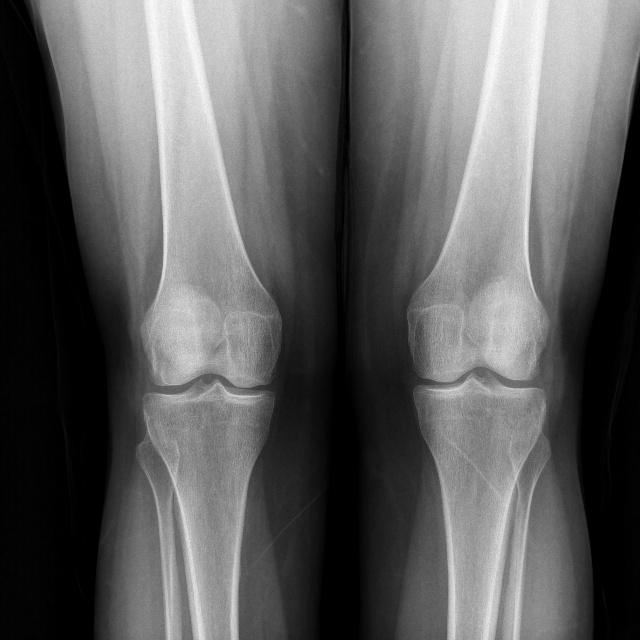Knee: (135, 299, 285, 456), (403, 301, 550, 458)
